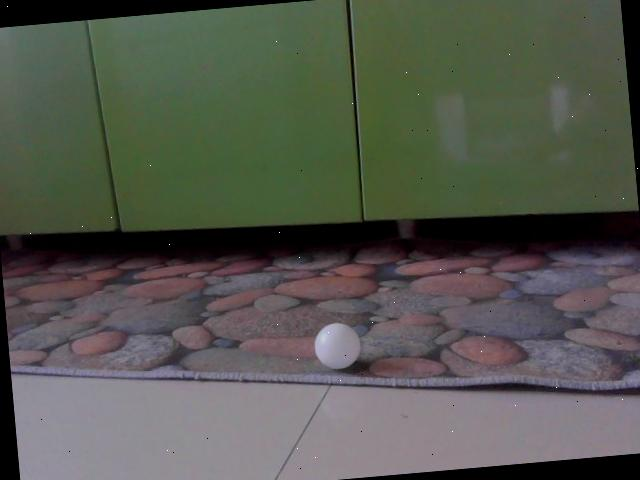ball: (313, 322, 362, 370)
